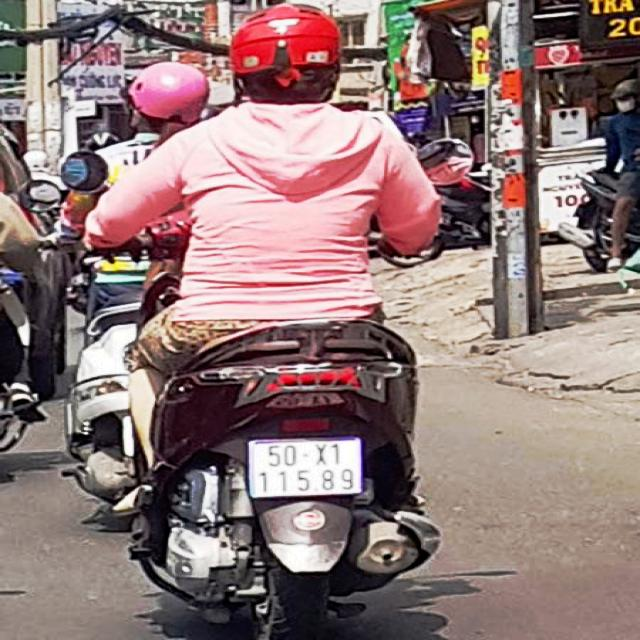license_plate: (251, 441, 366, 496)
